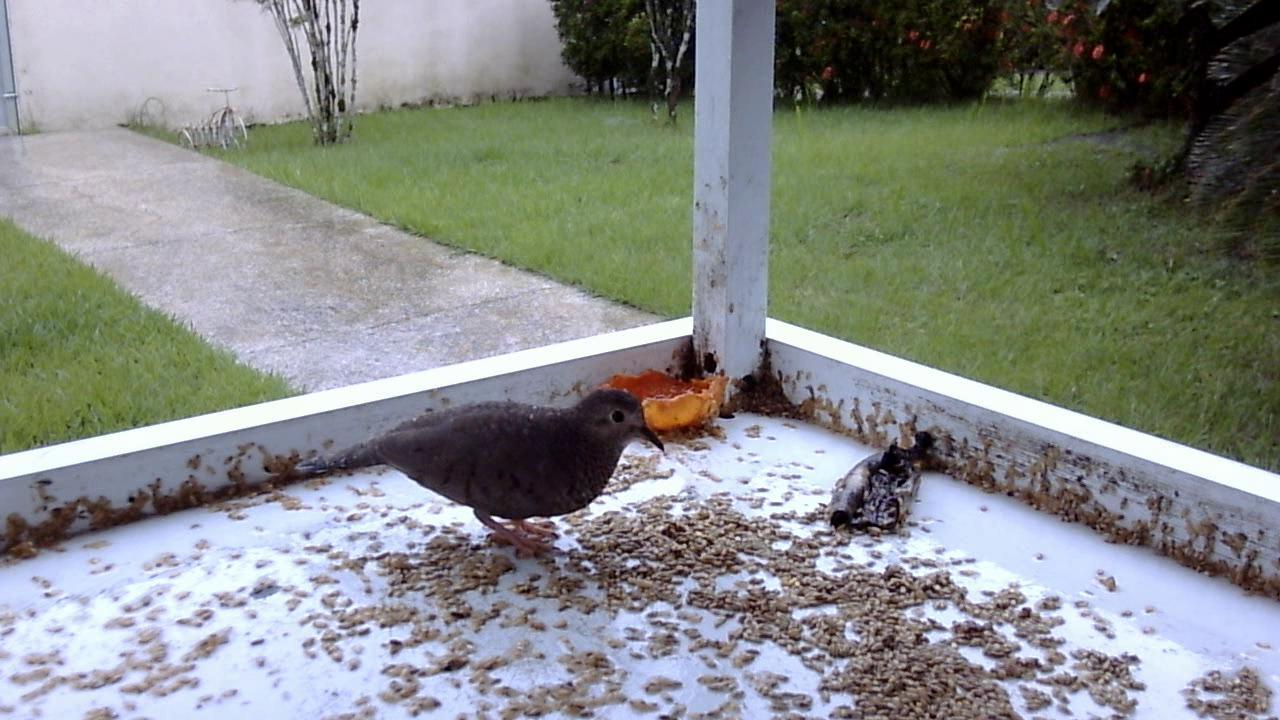rolinha: (334, 384, 662, 564)
